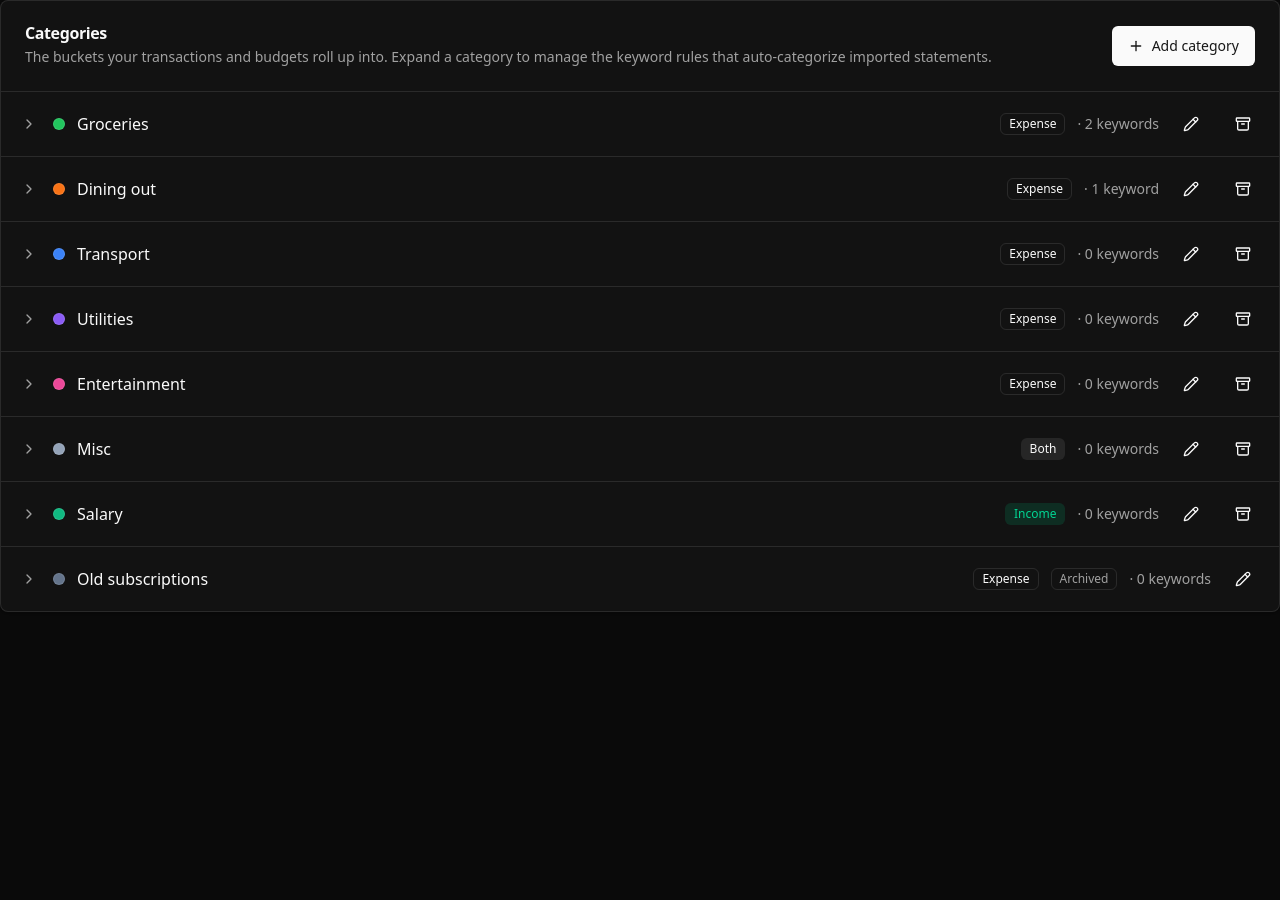
Test case: CategoriesManager › shows the "No keywords yet" hint for a category with no patterns
Click the button named "expand transport" at [29, 254], box 17,242 -> 41,266
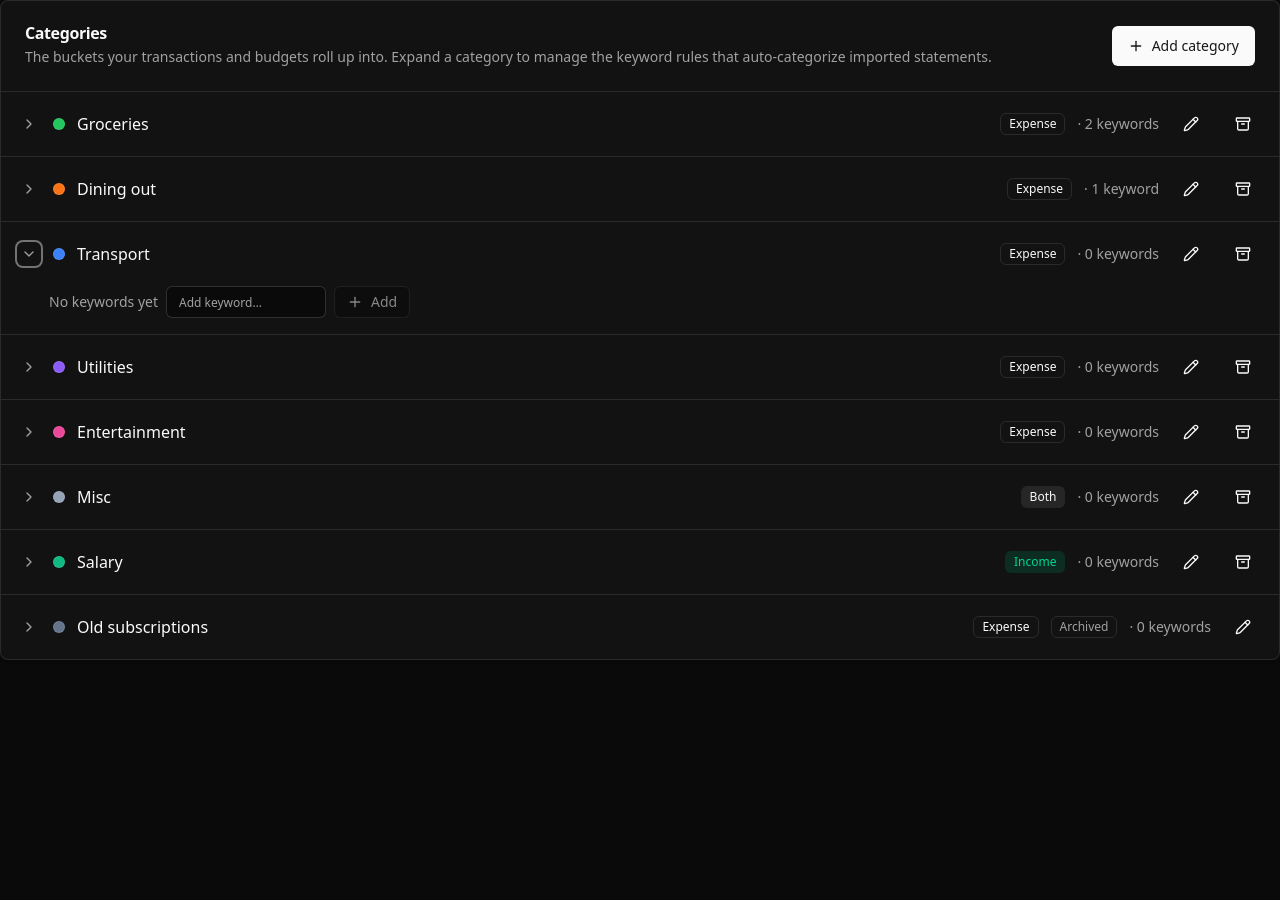
Now the text "No keywords yet" is shown, box 49,292 -> 158,312
